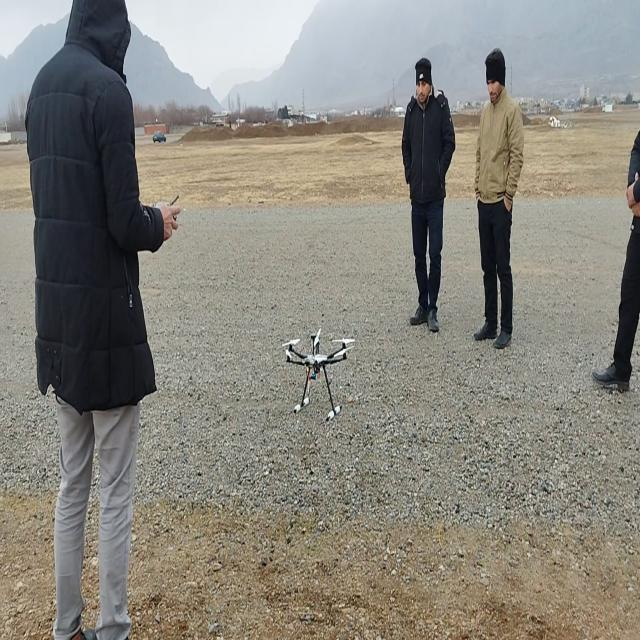drone: (282, 325, 355, 423)
